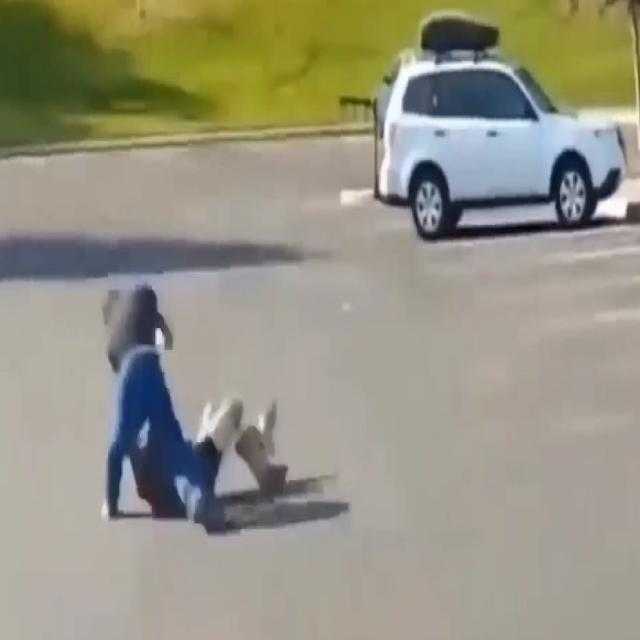fight: (88, 198, 292, 568)
